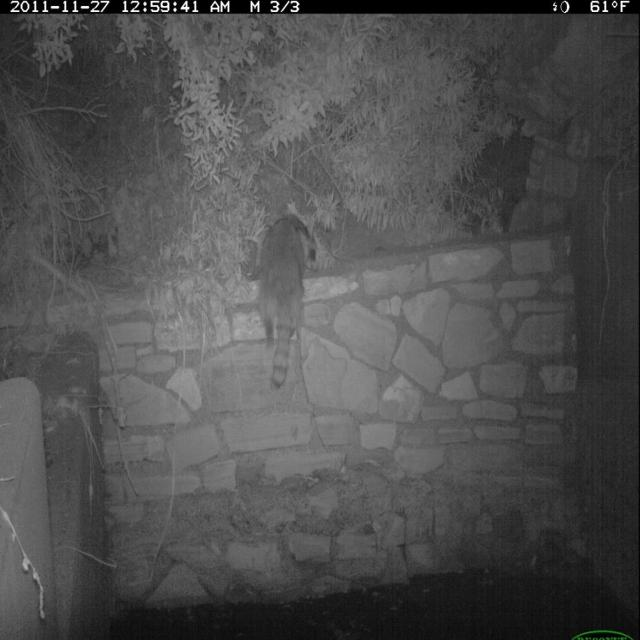raccoon: (250, 210, 324, 397)
